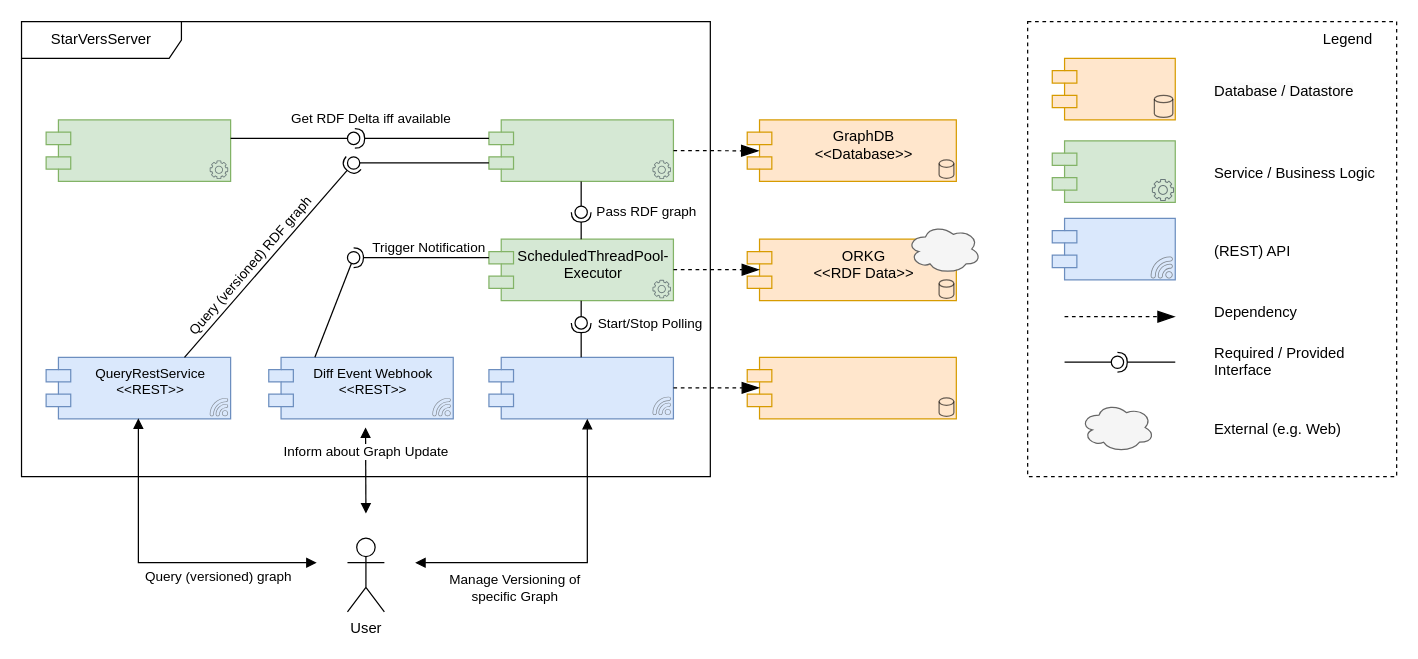
Image size: 1418x659. Some labels were removed from this diagram. Here are the shapes that lost their labels. From the top down, the box of each, then its label:
(45, 119, 231, 181): DeltaQueryService
(488, 119, 673, 181): StarVersService
(488, 356, 673, 419): ManagementRestService <<REST>>
(746, 356, 956, 419): PostgreSQL <<Database>>
